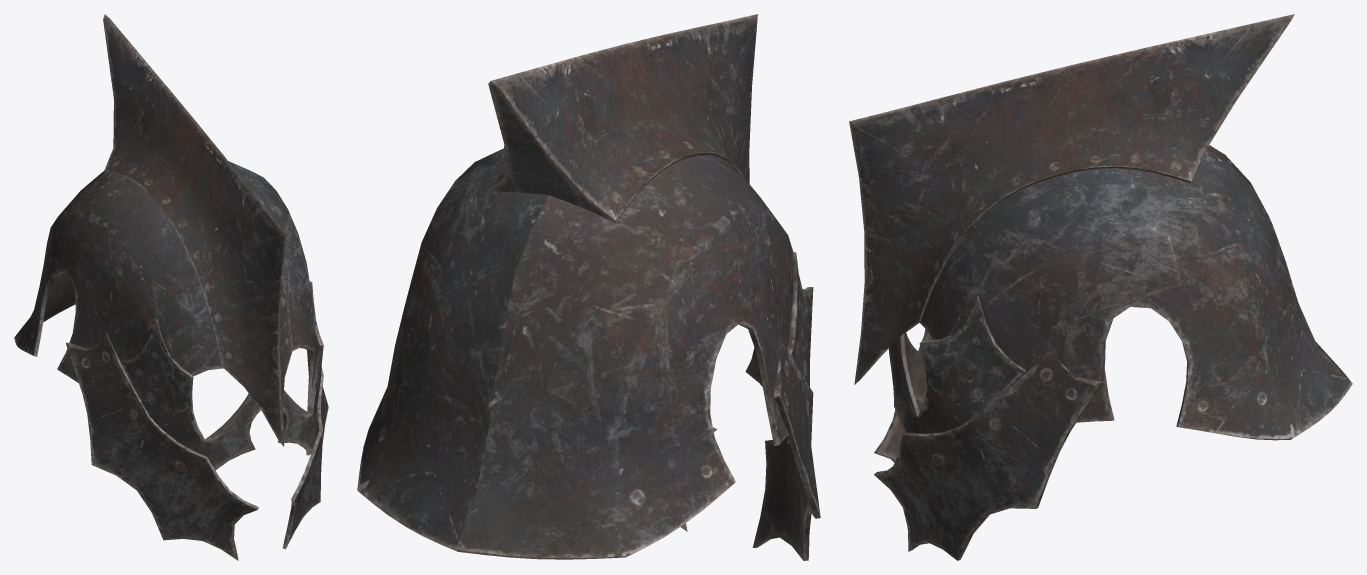
File: sk_dg_uruk_helmet_elite_a.fbx
The picture shows the model from 3 angles, left to right: view 1: azimuth 30°, elevation 25°; view 2: azimuth 150°, elevation 25°; view 3: azimuth 270°, elevation 25°; orthographic projection. The views are drawn at different scales.
Parts seen in each view (by area): view 1: sk_dg_uruk_helmet_elite_a; view 2: sk_dg_uruk_helmet_elite_a; view 3: sk_dg_uruk_helmet_elite_a.
Boxes of the visible parts, <box> form: sk_dg_uruk_helmet_elite_a: <box>14,14,328,560</box>; sk_dg_uruk_helmet_elite_a: <box>357,14,820,560</box>; sk_dg_uruk_helmet_elite_a: <box>849,14,1352,560</box>.
Bounding box in the file's own units: 0.2303 × 0.3357 × 0.385.
Materials: 1 (1 with a texture image).
